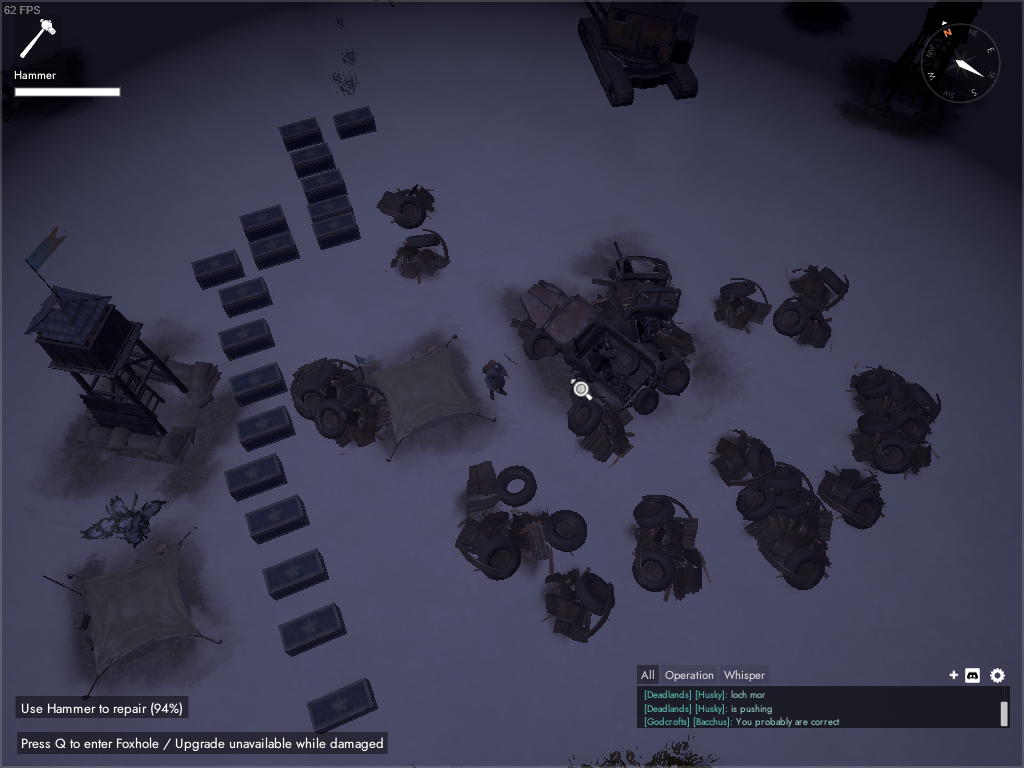crane: (577, 2, 699, 108)
foxhole: (41, 526, 224, 701), (360, 333, 499, 464)
player: (481, 358, 510, 402)
scrap: (707, 428, 834, 592), (455, 460, 588, 583), (845, 363, 944, 480), (630, 494, 715, 604), (292, 355, 390, 448), (772, 263, 851, 350), (544, 567, 617, 645), (819, 465, 887, 531), (711, 276, 772, 335), (391, 229, 452, 281), (375, 185, 437, 229)
scrapyard: (510, 241, 696, 468)
storage_box: (305, 677, 380, 736), (276, 602, 348, 658), (261, 548, 331, 601), (245, 494, 311, 545), (222, 452, 289, 502), (234, 404, 297, 453), (227, 361, 290, 408), (218, 316, 275, 361), (190, 249, 249, 292), (218, 276, 274, 319), (247, 231, 303, 271), (238, 204, 292, 243), (312, 213, 363, 251), (287, 142, 337, 179), (301, 168, 349, 205), (278, 117, 325, 152), (333, 106, 378, 140), (305, 195, 355, 224)
watchtower: (20, 225, 222, 467)
